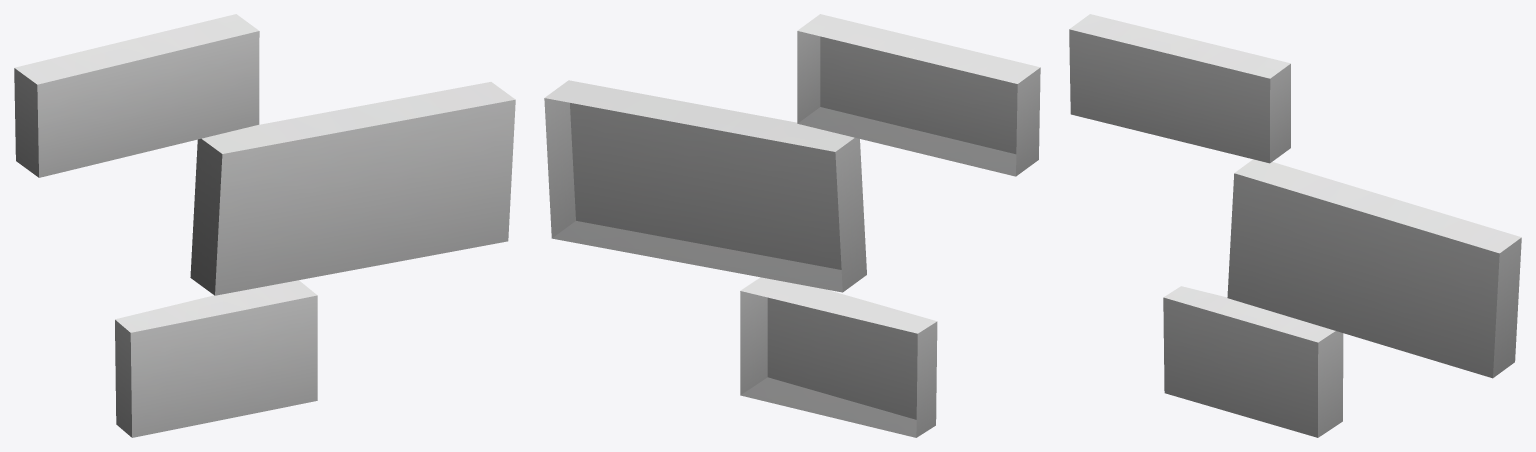
Rendered from Bricks_01.fbx.
The picture shows the model from 3 angles, left to right: view 1: azimuth 30°, elevation 25°; view 2: azimuth 150°, elevation 25°; view 3: azimuth 330°, elevation 25°; orthographic projection. The views are drawn at different scales.
Parts seen in each view (by area): view 1: Bricks_01; view 2: Bricks_01; view 3: Bricks_01.
Boxes of the visible parts, x1,y1,x2,y2 form: Bricks_01: (14,14,515,437); Bricks_01: (544,14,1040,437); Bricks_01: (1069,14,1521,437).
Size of the model in its own units: 144 by 110 by 13.41.
1 material, 1 textured.
